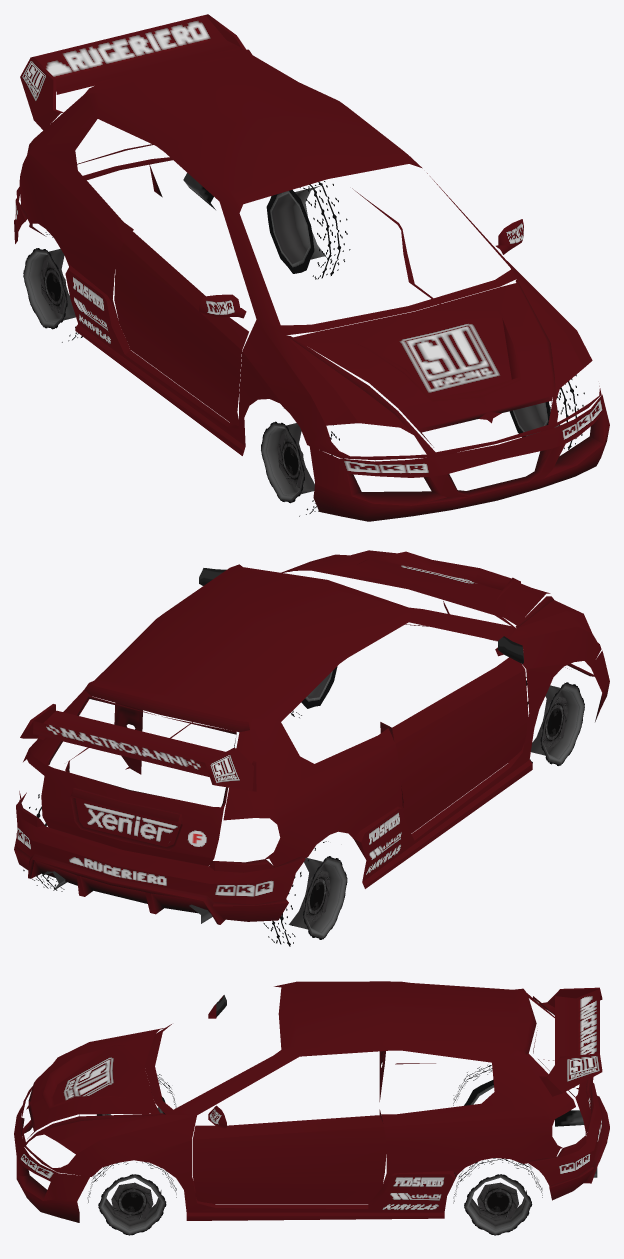
The model's file is car-COMP_Car1.glb.
The picture shows the model from 3 angles, top to bottom: view 1: azimuth 30°, elevation 25°; view 2: azimuth 150°, elevation 25°; view 3: azimuth 270°, elevation 25°; orthographic projection. The views are drawn at different scales.
Parts seen in each view (by area): view 1: COMP_Car1; view 2: COMP_Car1; view 3: COMP_Car1.
Part boxes in pixels (x1=…): COMP_Car1: x1=14, y1=14, x2=609, y2=521; COMP_Car1: x1=14, y1=550, x2=609, y2=946; COMP_Car1: x1=14, y1=981, x2=609, y2=1235.
Size of the model in its own units: 2.01 by 1.43 by 4.15.
19 materials, 19 textured.
